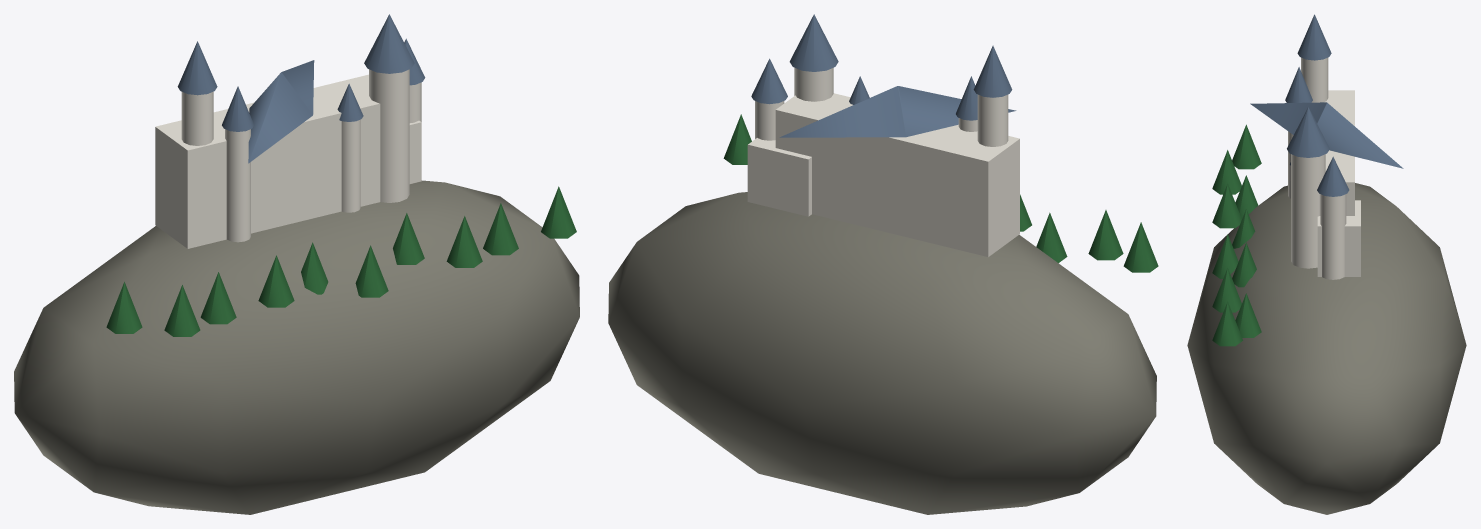
The picture shows the model from 3 angles, left to right: view 1: azimuth 30°, elevation 25°; view 2: azimuth 150°, elevation 25°; view 3: azimuth 270°, elevation 25°; orthographic projection. The views are drawn at different scales.
Size of the model in its own units: 180 by 147 by 90.
